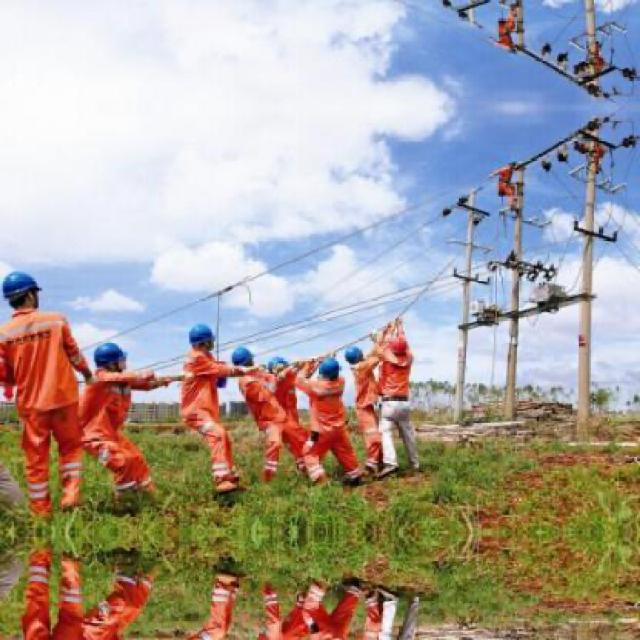con casco: (0, 251, 82, 325), (61, 320, 151, 380), (159, 312, 226, 377), (376, 318, 440, 359), (326, 332, 378, 381), (296, 355, 347, 397), (228, 333, 259, 374)
